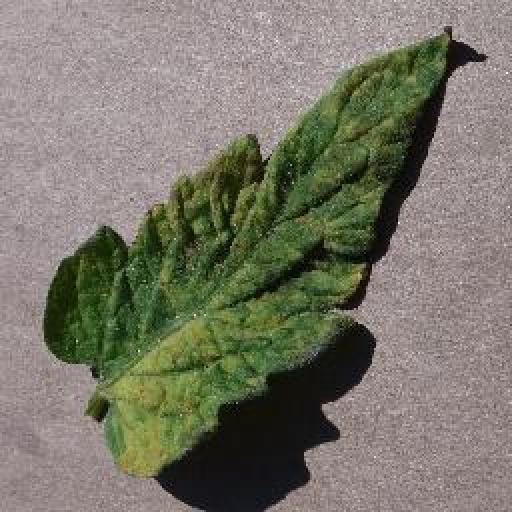Leaf Mold: (39, 25, 454, 483)
